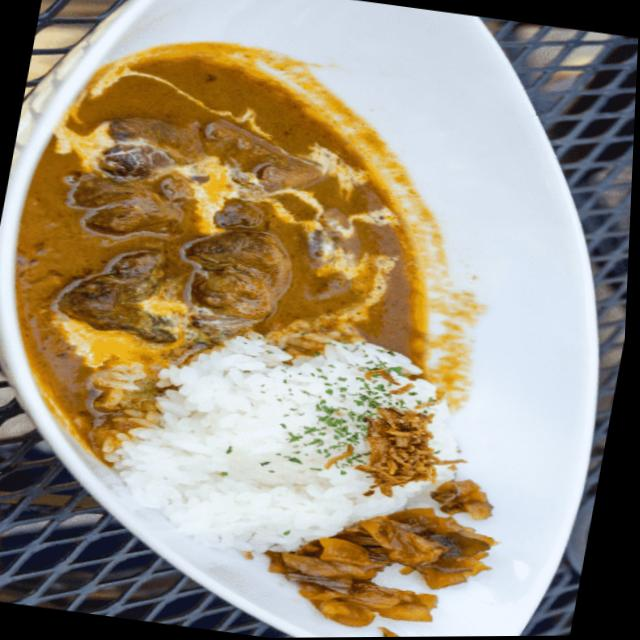Wet: (0, 30, 594, 640)
